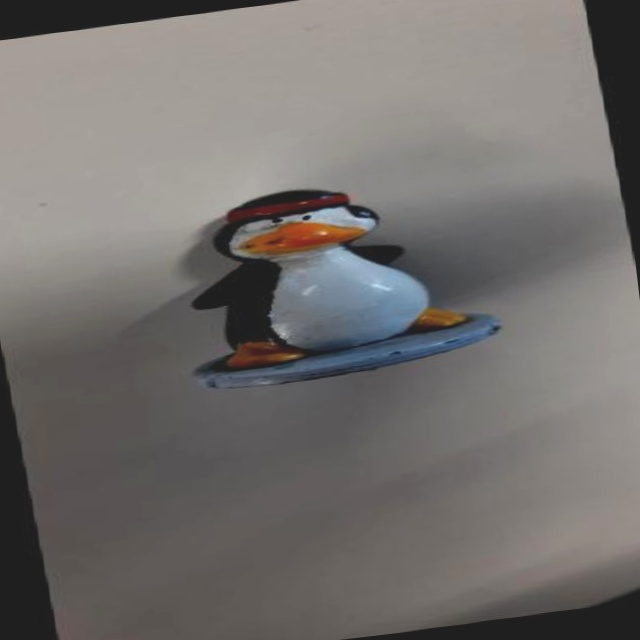Penguin: (150, 159, 512, 403)
